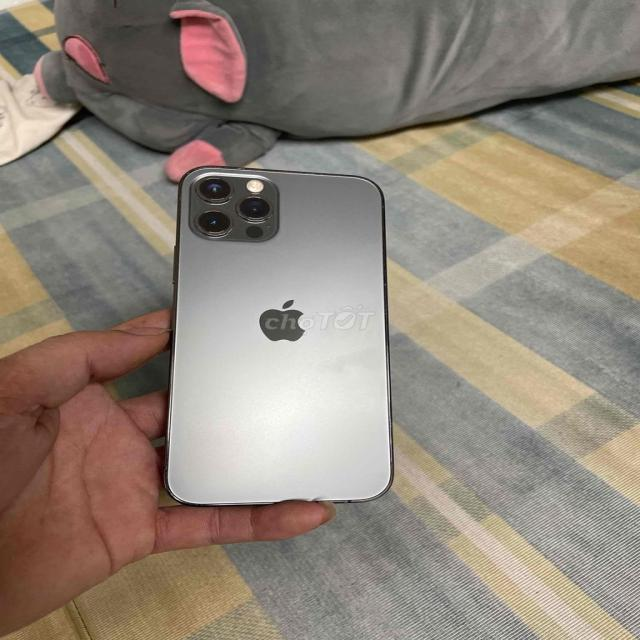gen_12_13: (155, 152, 423, 522)
